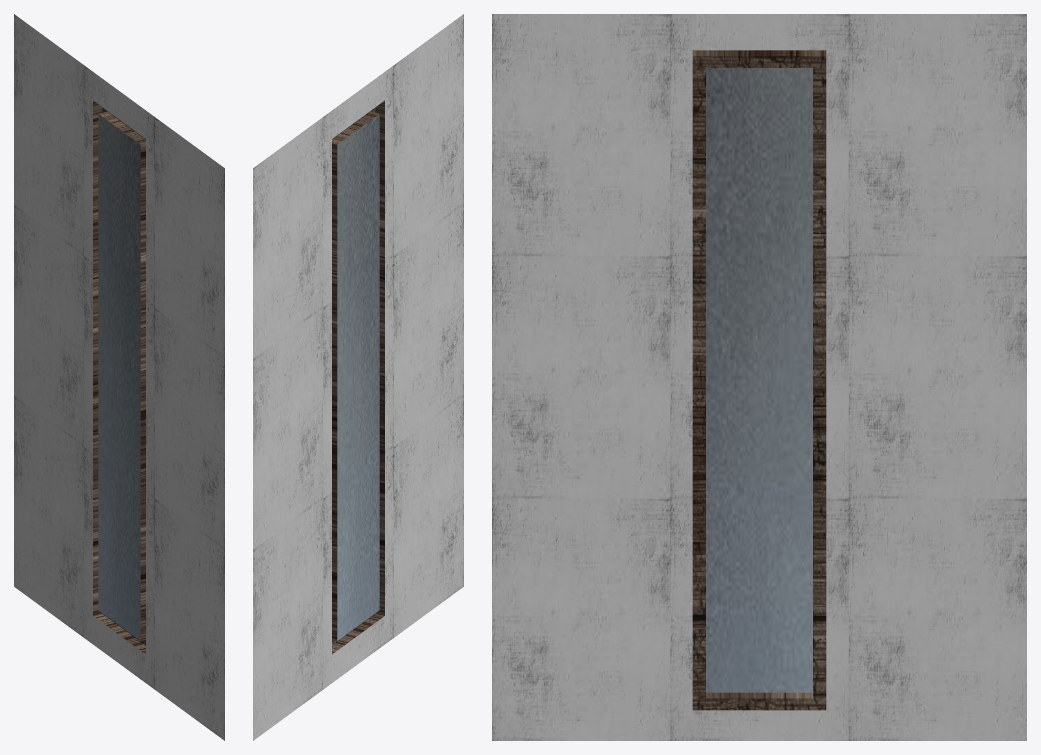
File: WindowTall001.FBX
3 views of the same model, side by side, from view 1: azimuth 30°, elevation 25°; view 2: azimuth 150°, elevation 25°; view 3: azimuth 270°, elevation 25° (orthographic). The views are drawn at different scales.
Visible parts, largest first — view 1: WindowTall001; view 2: WindowTall001; view 3: WindowTall001.
Boxes of the visible parts, <box> form: WindowTall001: <box>14,14,224,740</box>; WindowTall001: <box>253,14,463,740</box>; WindowTall001: <box>492,14,1026,740</box>.
Bounding box in the file's own units: 5 × 300 × 200.
